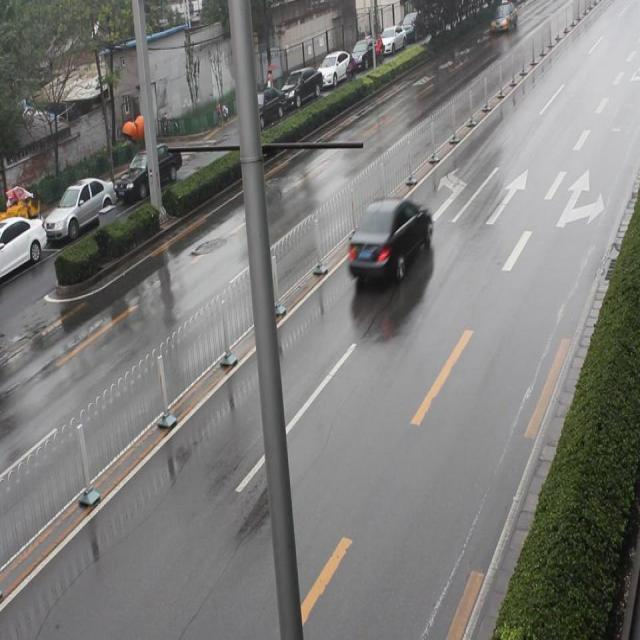car: (348, 177, 432, 301)
